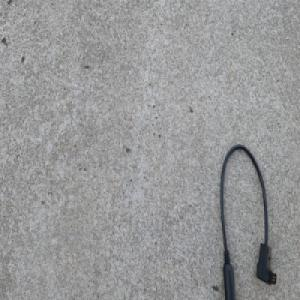Wire: (218, 142, 277, 300)
